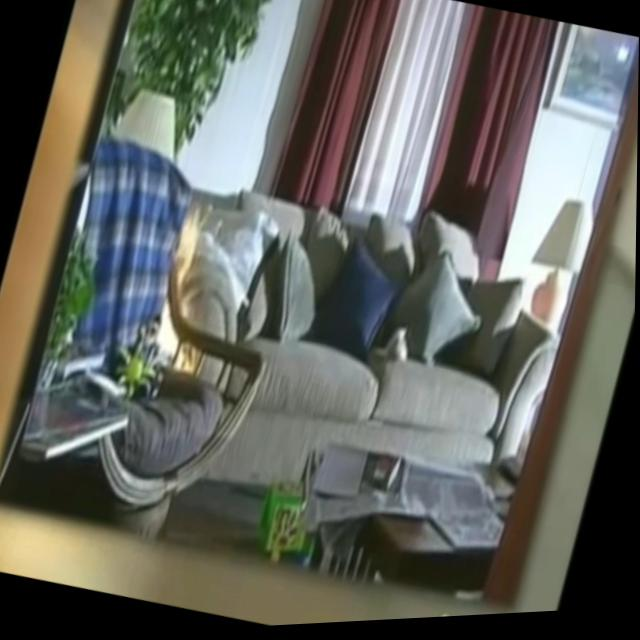fire: (146, 296, 204, 387), (170, 199, 213, 279)
